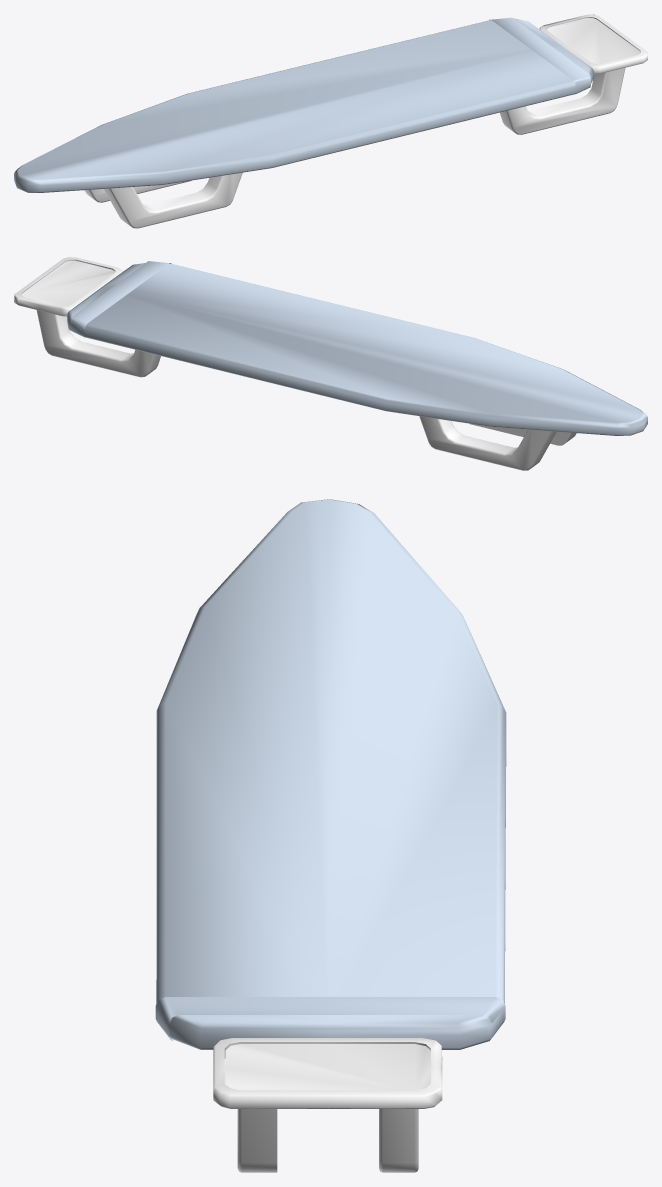
File: IronTable.fbx
The picture shows the model from 3 angles, top to bottom: view 1: azimuth 30°, elevation 25°; view 2: azimuth 150°, elevation 25°; view 3: azimuth 270°, elevation 25°; orthographic projection. The views are drawn at different scales.
Parts seen in each view (by area): view 1: plancheARepasser, plancheARepasser.001; view 2: plancheARepasser, plancheARepasser.001; view 3: plancheARepasser, plancheARepasser.001.
Part boxes in pixels (x1,y1,x2,y2): plancheARepasser: (14,14,647,228); plancheARepasser.001: (489,17,590,94); plancheARepasser: (14,257,647,470); plancheARepasser.001: (70,261,171,337); plancheARepasser: (156,499,506,1172); plancheARepasser.001: (155,997,505,1040).
Size of the model in its own units: 66.2 by 6.31 by 16.6.
